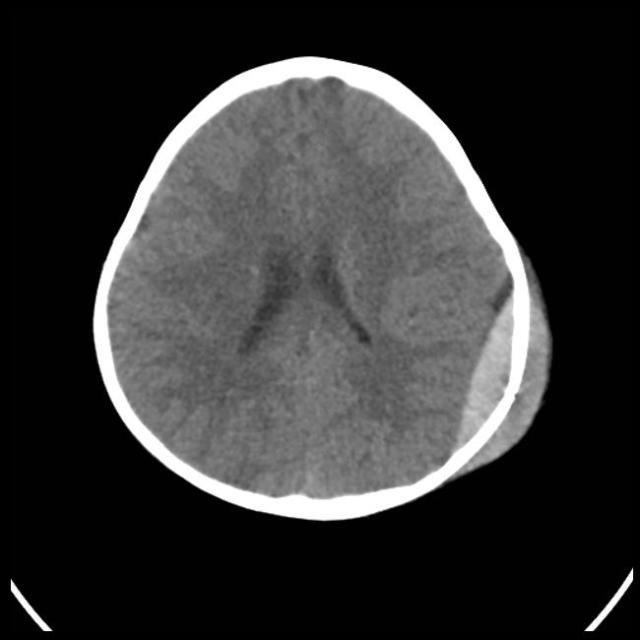lesion: (90, 57, 552, 518)
